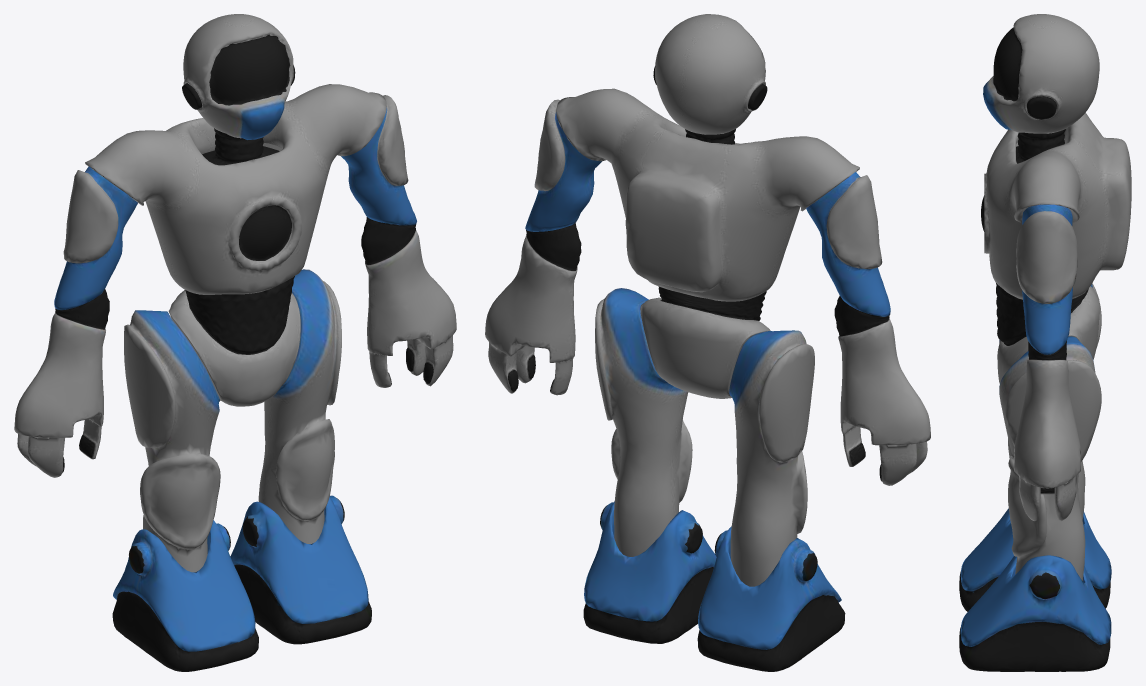
File: robot_v1_L3.obj
The picture shows the model from 3 angles, left to right: view 1: azimuth 30°, elevation 25°; view 2: azimuth 150°, elevation 25°; view 3: azimuth 270°, elevation 25°; orthographic projection.
Bounding box in the file's own units: 0.7528 × 1 × 0.2558.
Materials: 1 (1 with a texture image).
